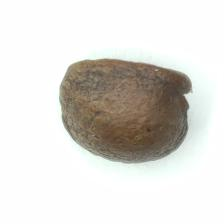NG: (176, 75, 192, 133)
